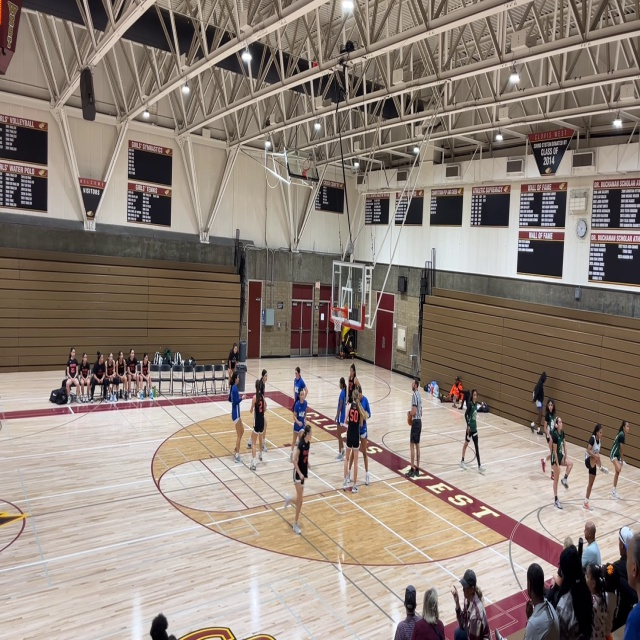Basketball: (407, 411, 413, 425)
